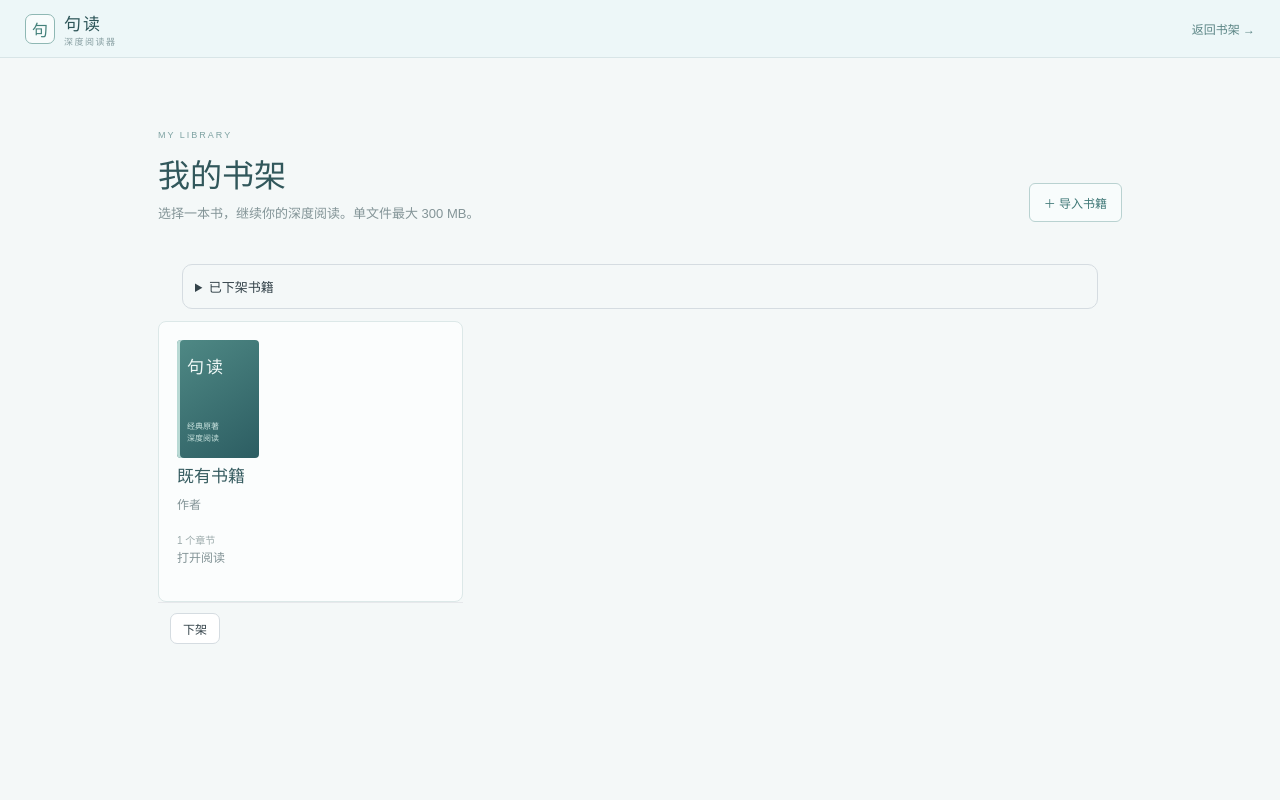
独立书架同样支持确认下架且保留恢复入口
This screenshot has width=1280, height=800.
Click the button with aria-label "下架《既有书籍》": (195, 628) [170, 613, 220, 644]
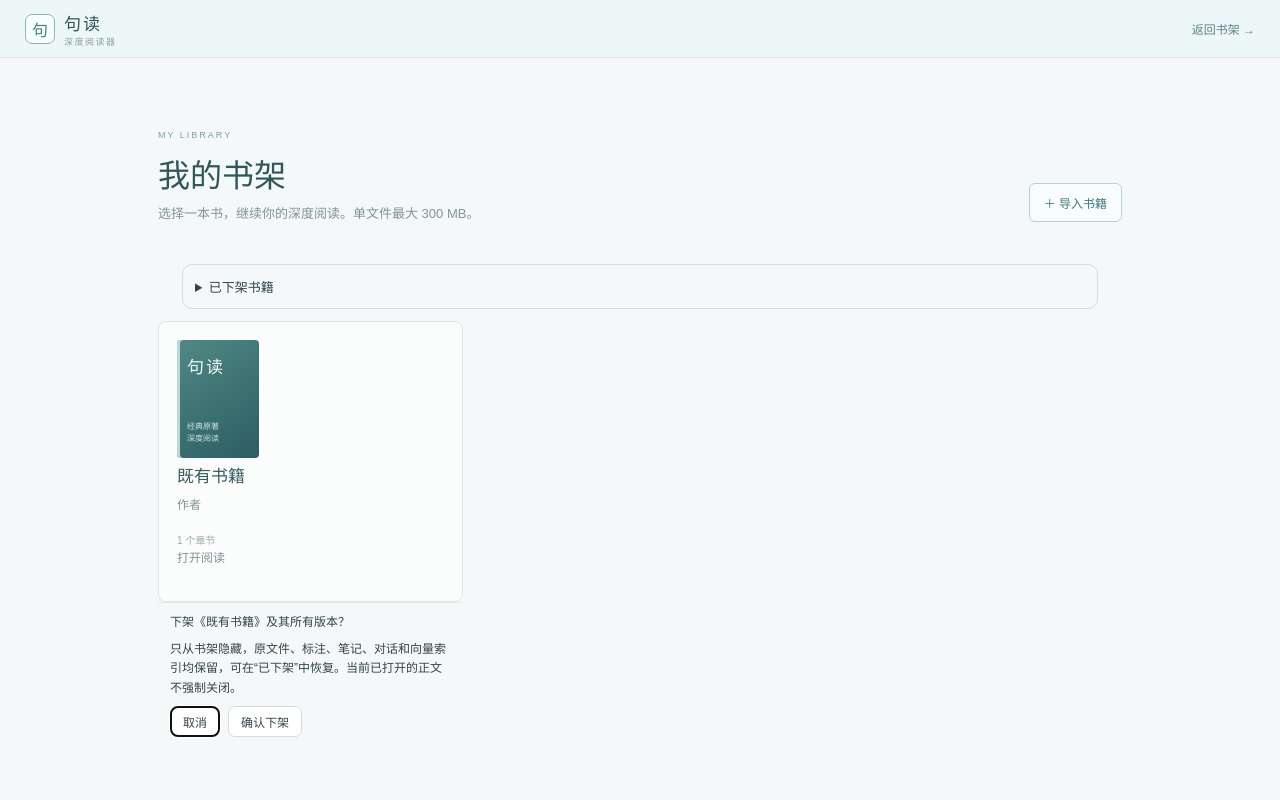
Click the button "确认下架": (265, 721) [228, 706, 302, 737]
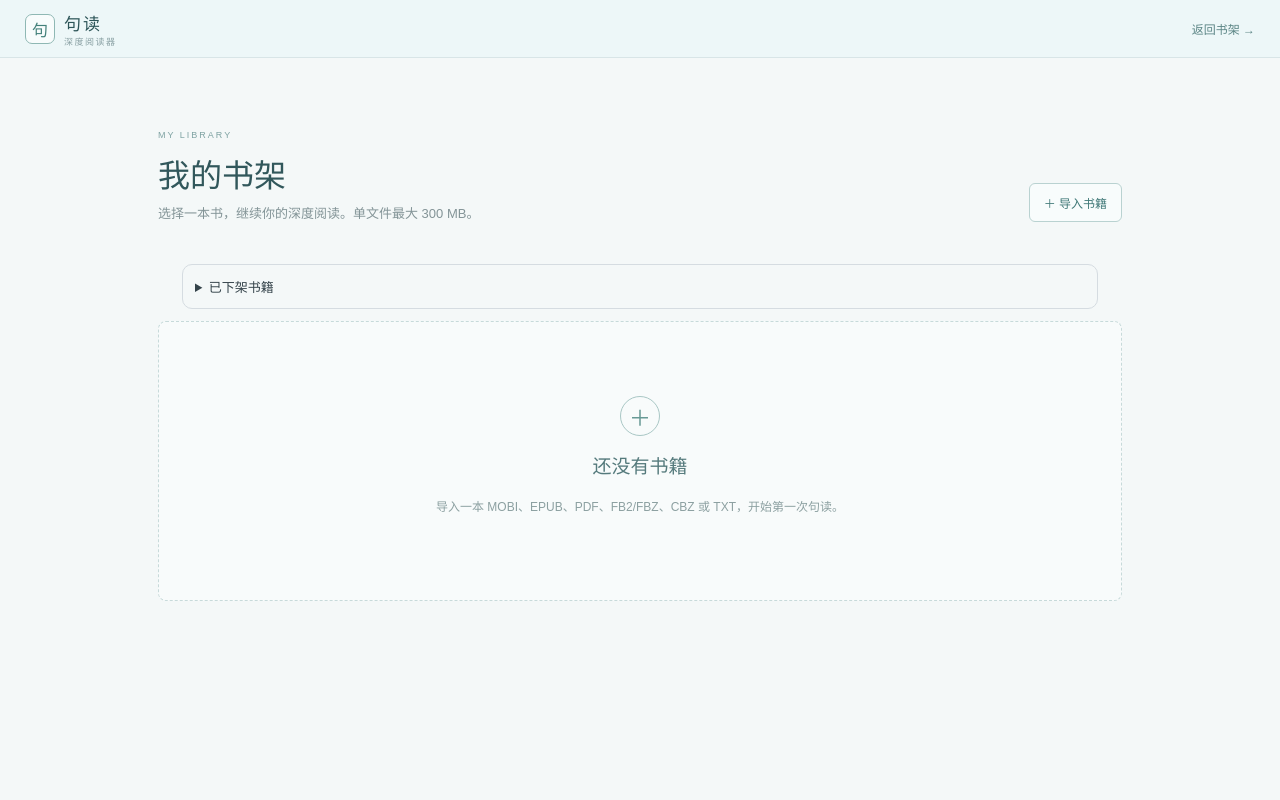
Check: the text "已下架书籍" is shown, box [209, 280, 274, 295]
Check: the link with class "book-card" is gone
